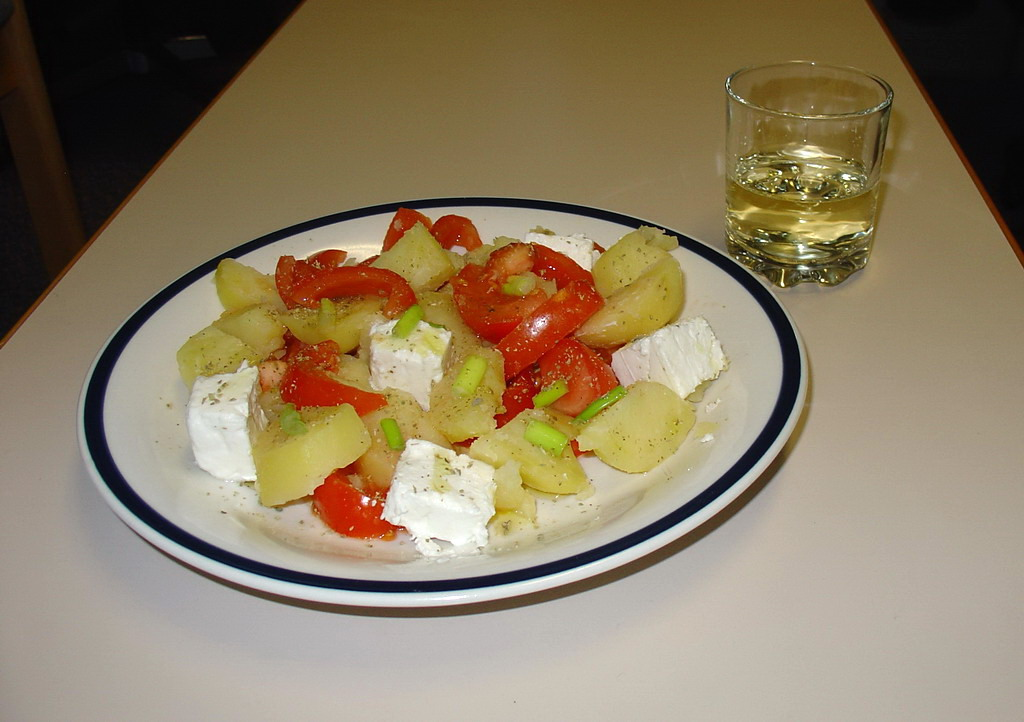boiled potatoes: (581, 391, 686, 471), (255, 415, 358, 491), (206, 271, 288, 361), (606, 217, 675, 320)
glass of water: (729, 50, 883, 291)
